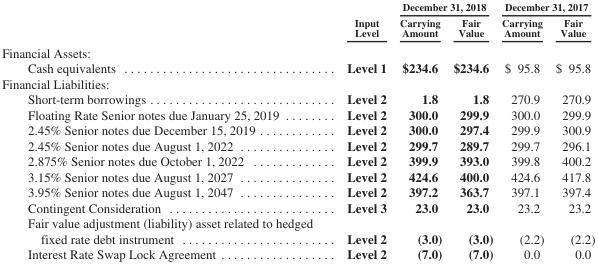table: (1, 0, 594, 261)
table column: (1, 0, 329, 261), (329, 0, 392, 261), (392, 0, 447, 261), (496, 0, 549, 261), (447, 0, 496, 261), (549, 0, 594, 261)
table column header: (1, 0, 594, 41)
table projected row header: (1, 41, 594, 59), (1, 75, 594, 90)
table row: (1, 215, 594, 245), (1, 14, 594, 41), (1, 41, 594, 59), (1, 59, 594, 75), (1, 90, 594, 106), (1, 121, 594, 137), (1, 152, 594, 168), (1, 183, 594, 199), (1, 199, 594, 215), (1, 245, 594, 261), (1, 75, 594, 90), (1, 106, 594, 121), (1, 137, 594, 152), (1, 168, 594, 183), (1, 0, 594, 14)
table spanning cell: (329, 0, 392, 41), (392, 0, 496, 14), (496, 0, 594, 14)
